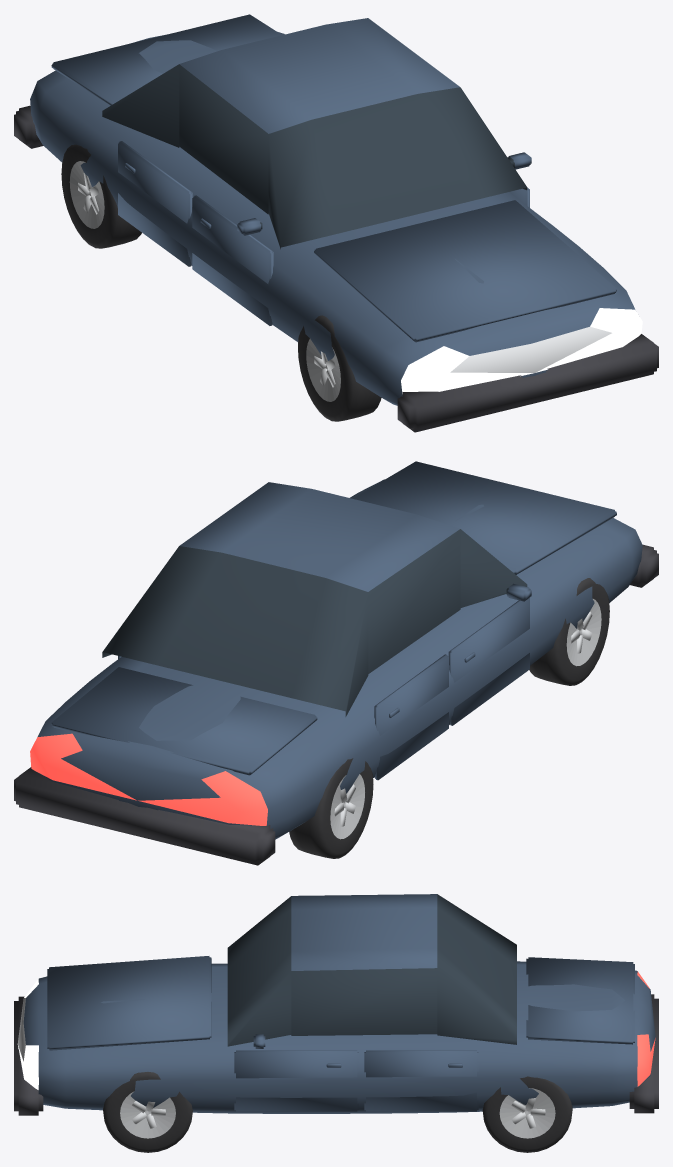
File: VH_Sedan_01.glb
3 views of the same model, one above another, from view 1: azimuth 30°, elevation 25°; view 2: azimuth 150°, elevation 25°; view 3: azimuth 270°, elevation 25° (orthographic). The views are drawn at different scales.
Visible parts, largest first — view 1: Cabin, Body, Hood, Bumper_F, Trunk, Wheel_FR, Door_FR, Wheel_RR, Door_RR, Bumper_R; view 2: Cabin, Body, Hood, Trunk, Bumper_R, Wheel_RR, Door_FR, Wheel_FR, Door_RR, Bumper_F; view 3: Body, Cabin, Hood, Trunk, Door_FL, Door_RL, Wheel_RL, Wheel_FL, Bumper_F, Bumper_R.
Part boxes in pixels (left/top/right/bottom): Cabin: left=102, top=18, right=531, bottom=249; Body: left=30, top=32, right=642, bottom=405; Hood: left=313, top=200, right=616, bottom=342; Bumper_F: left=397, top=334, right=658, bottom=432; Trunk: left=51, top=14, right=281, bottom=105; Wheel_FR: left=298, top=315, right=381, bottom=421; Door_FR: left=192, top=195, right=273, bottom=325; Wheel_RR: left=61, top=144, right=141, bottom=248; Door_RR: left=118, top=141, right=192, bottom=266; Bumper_R: left=14, top=105, right=43, bottom=148; Cabin: left=102, top=482, right=531, bottom=716; Body: left=30, top=479, right=642, bottom=839; Hood: left=353, top=461, right=616, bottom=574; Trunk: left=51, top=667, right=317, bottom=775; Bumper_R: left=14, top=767, right=275, bottom=865; Wheel_RR: left=289, top=758, right=373, bottom=858; Door_FR: left=448, top=597, right=529, bottom=725; Wheel_FR: left=529, top=578, right=609, bottom=685; Door_RR: left=374, top=654, right=448, bottom=780; Bumper_F: left=630, top=544, right=658, bottom=587; Body: left=17, top=961, right=655, bottom=1113; Cabin: left=227, top=894, right=516, bottom=1048; Hood: left=47, top=956, right=211, bottom=1050; Trunk: left=526, top=957, right=634, bottom=1044; Door_FL: left=234, top=1050, right=358, bottom=1111; Door_RL: left=364, top=1050, right=478, bottom=1111; Wheel_RL: left=482, top=1076, right=572, bottom=1152; Wheel_FL: left=103, top=1072, right=192, bottom=1152; Bumper_F: left=14, top=996, right=43, bottom=1115; Bumper_R: left=629, top=994, right=658, bottom=1113.
Size of what is drawn, in the model's own units: 2.02 by 1.46 by 4.86.
